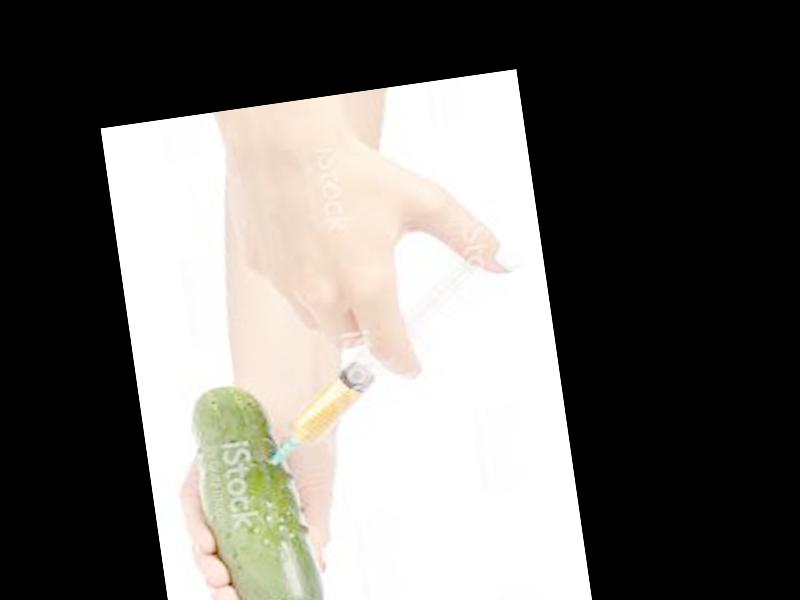Cucumber: (192, 377, 328, 600)
